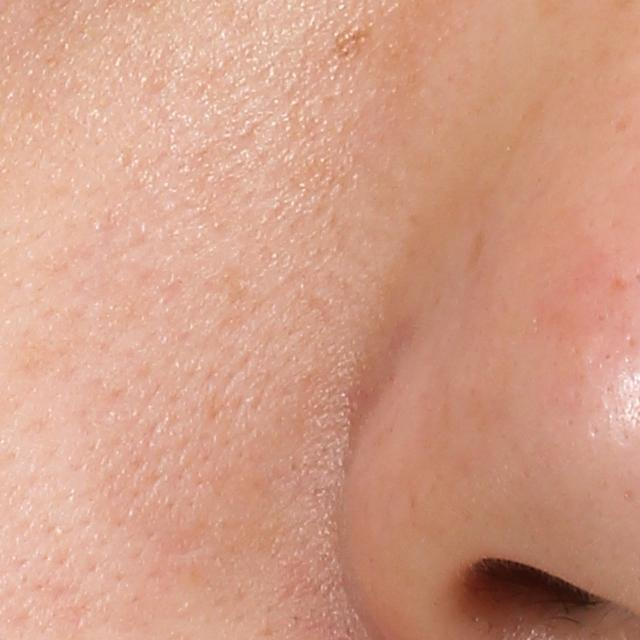melasma: (332, 24, 376, 65)
